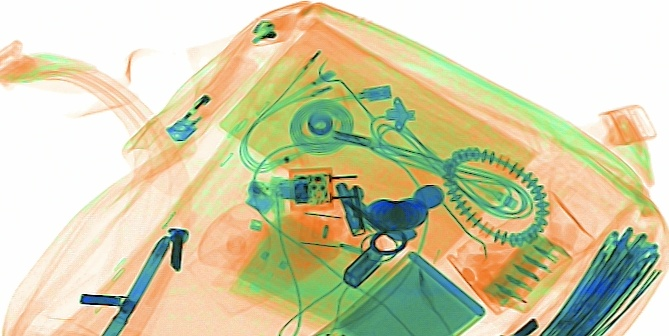lighter: (166, 55, 259, 143), (217, 15, 314, 50)
